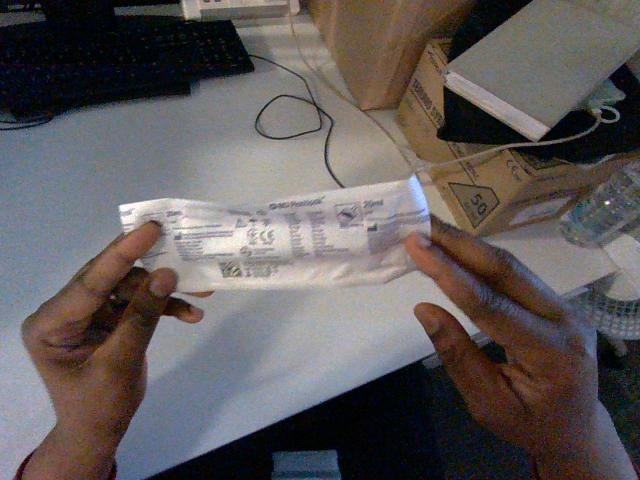syringe: (119, 176, 429, 291)
